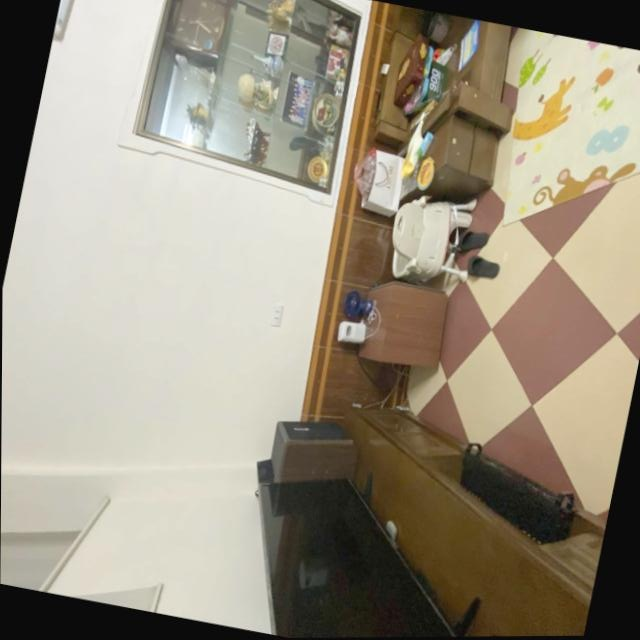outlet: (269, 303, 284, 329)
